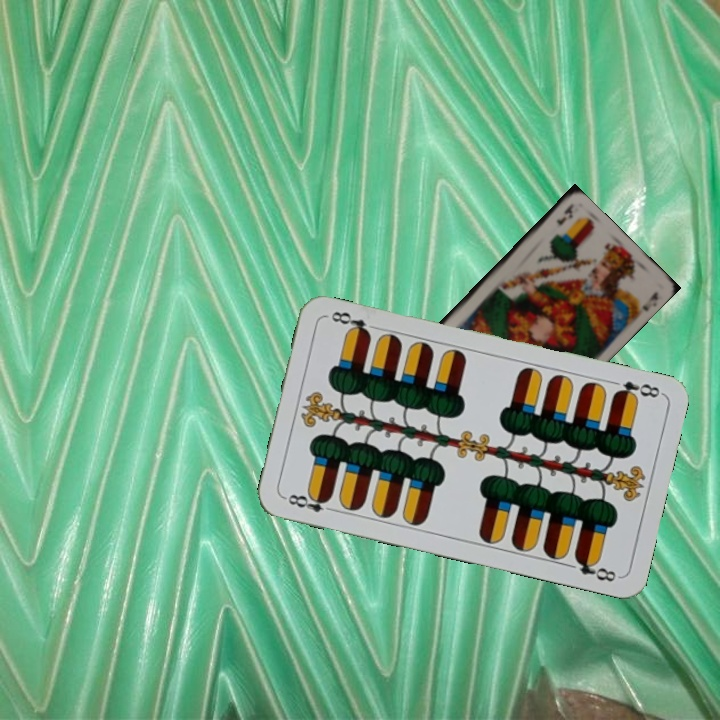E8: (281, 489, 339, 515), (609, 377, 664, 403)
EK: (552, 202, 575, 228)
